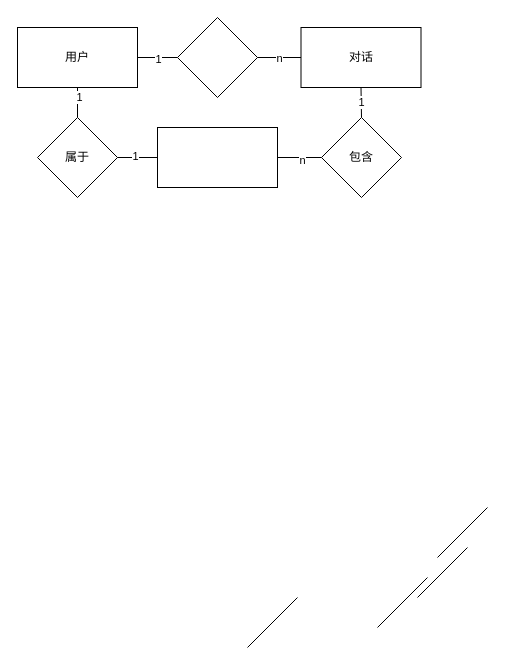
Some shapes in this 506 by 666 pixel diagram are drawn without their labels. Here are the shapes that lost their labels. From the top down, the box of each, then its label:
(176, 16, 258, 98): 拥有
(156, 126, 278, 188): 消息
